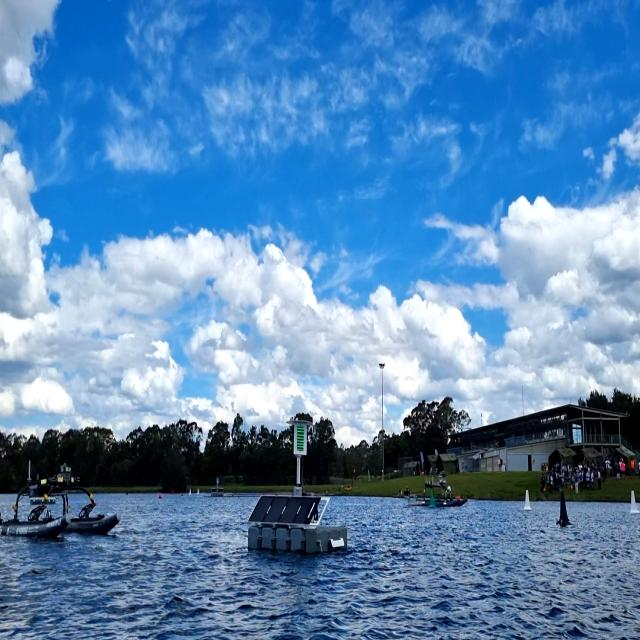led: (294, 424, 306, 454)
